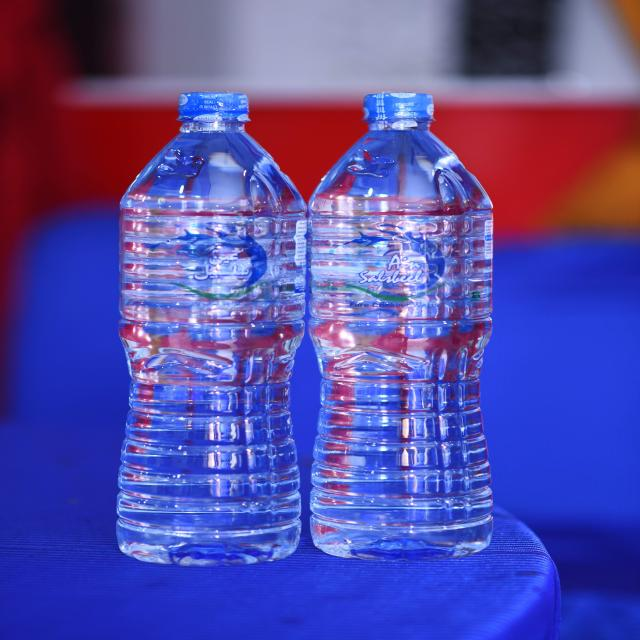Bottle: (118, 93, 306, 565), (310, 93, 492, 560)
